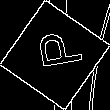P_W: (27, 32, 83, 78)
